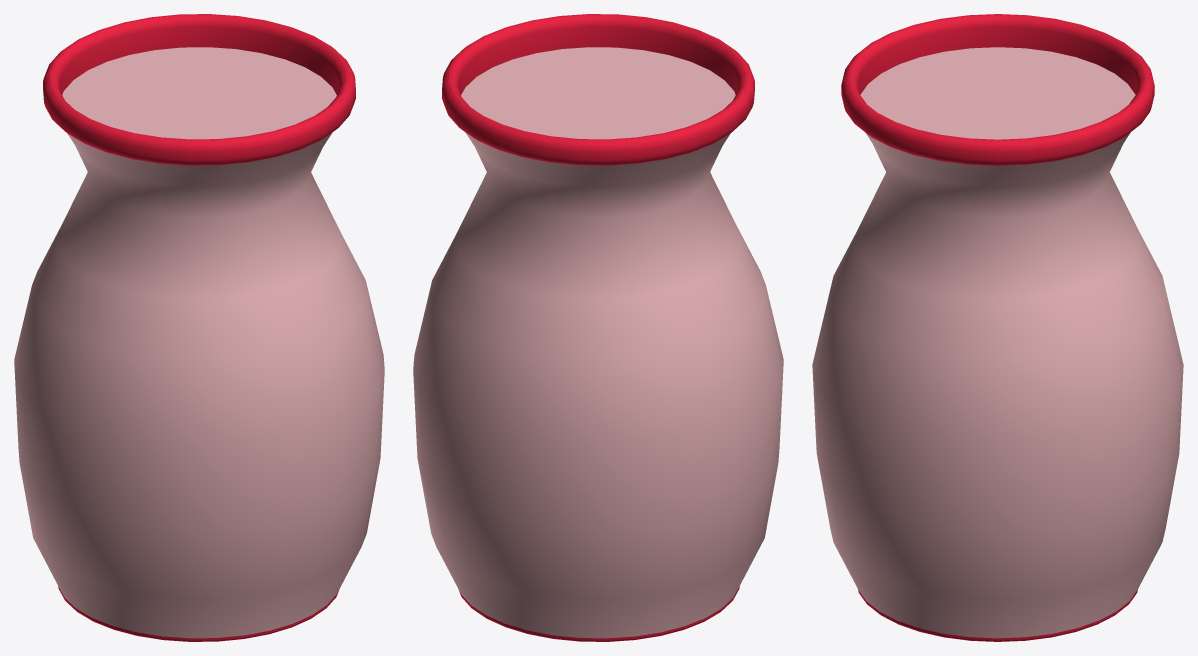
File: JARRON.fbx
3 renders of one model, left to right at view 1: azimuth 30°, elevation 25°; view 2: azimuth 150°, elevation 25°; view 3: azimuth 270°, elevation 25°, orthographic.
Visible parts, largest first — view 1: Cylinder; view 2: Cylinder; view 3: Cylinder.
Boxes of the visible parts, left/top/right/bottom form: Cylinder: left=14, top=14, right=384, bottom=641; Cylinder: left=413, top=14, right=783, bottom=641; Cylinder: left=812, top=14, right=1183, bottom=641.
Bounding box in the file's own units: 13.09 × 19.67 × 13.09.
